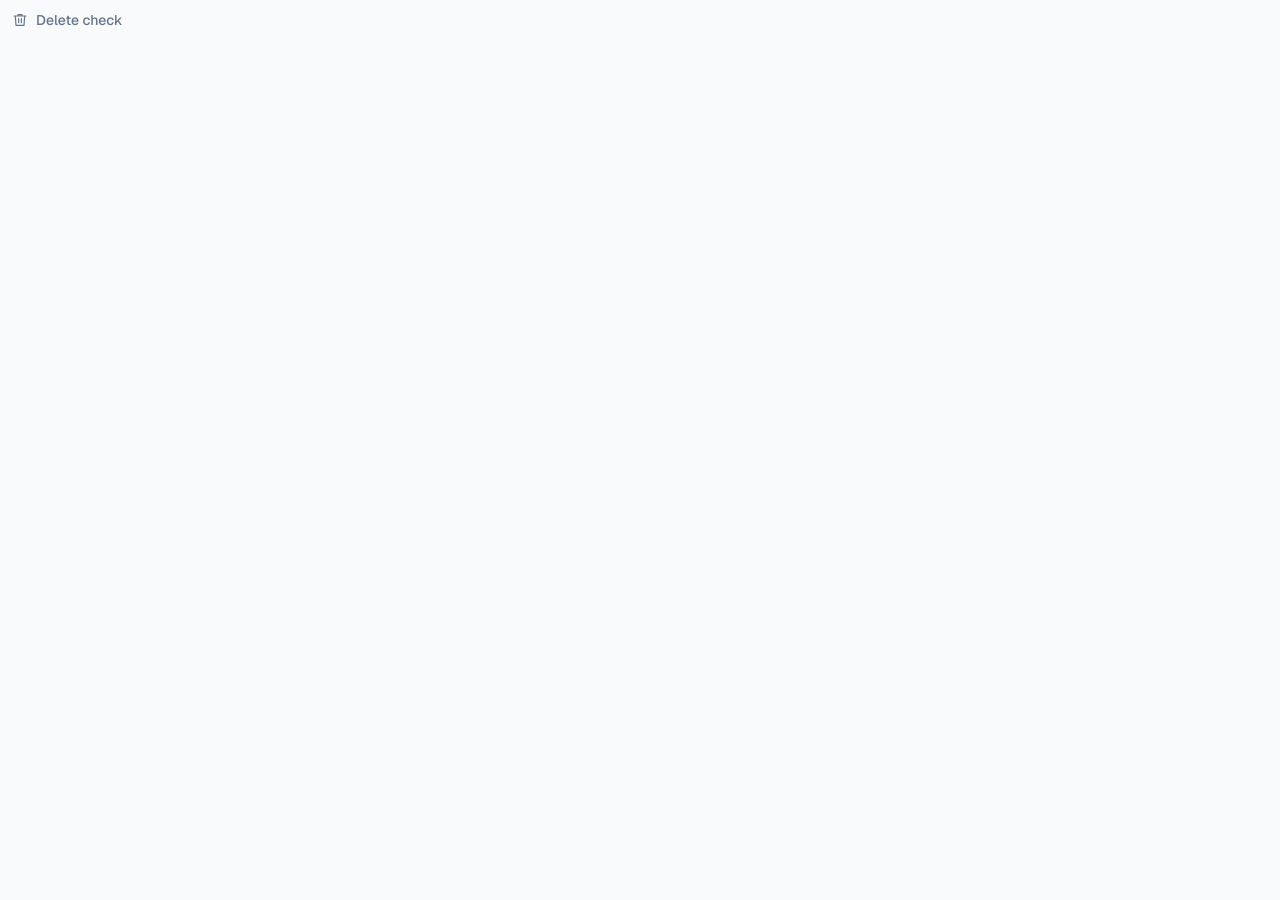
Scenario: does not display a raw transport error
This screenshot has width=1280, height=900.
Click the button "Delete check": (67,20) [0,0,134,40]
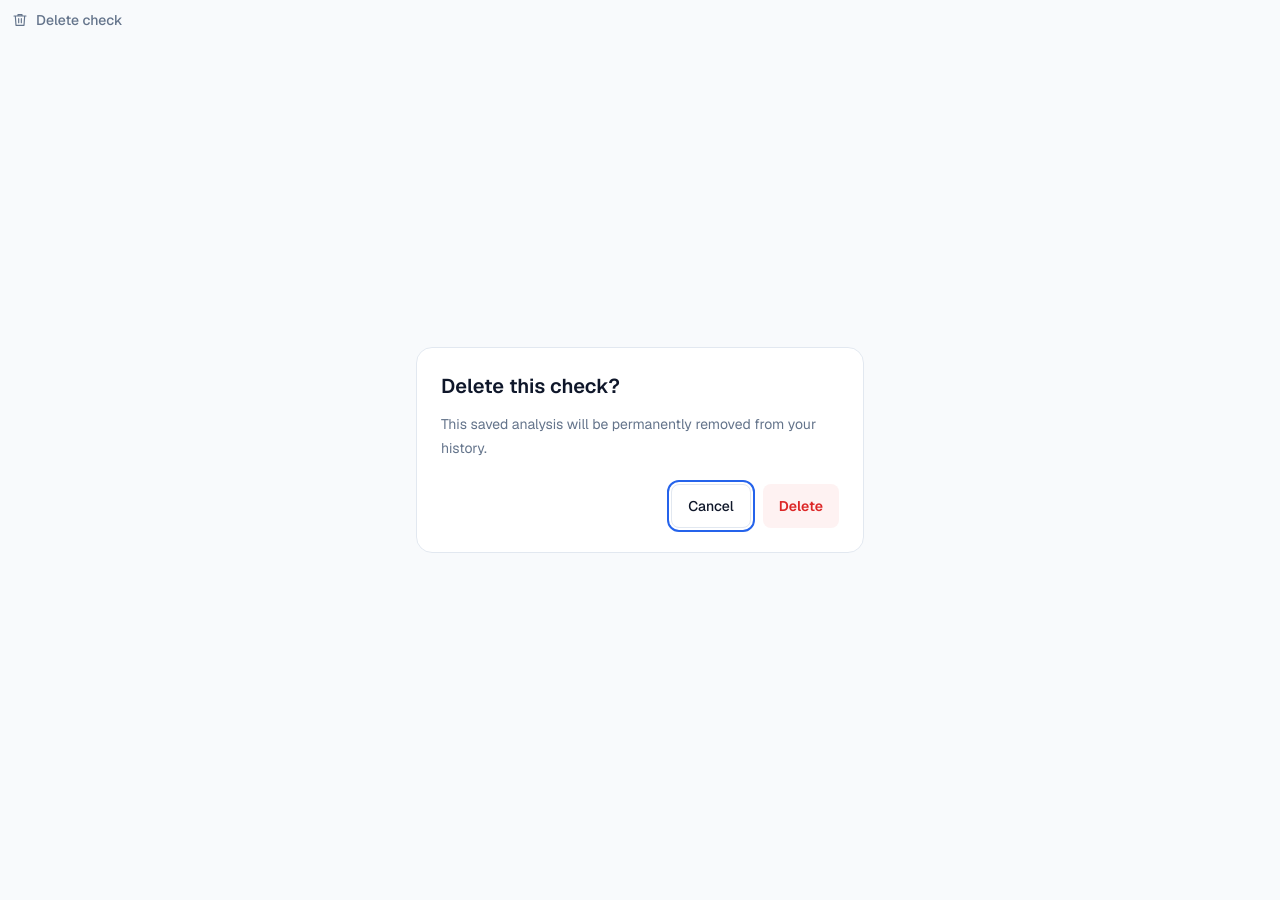
Click the button "Delete": (801,506) [763,484,839,528]
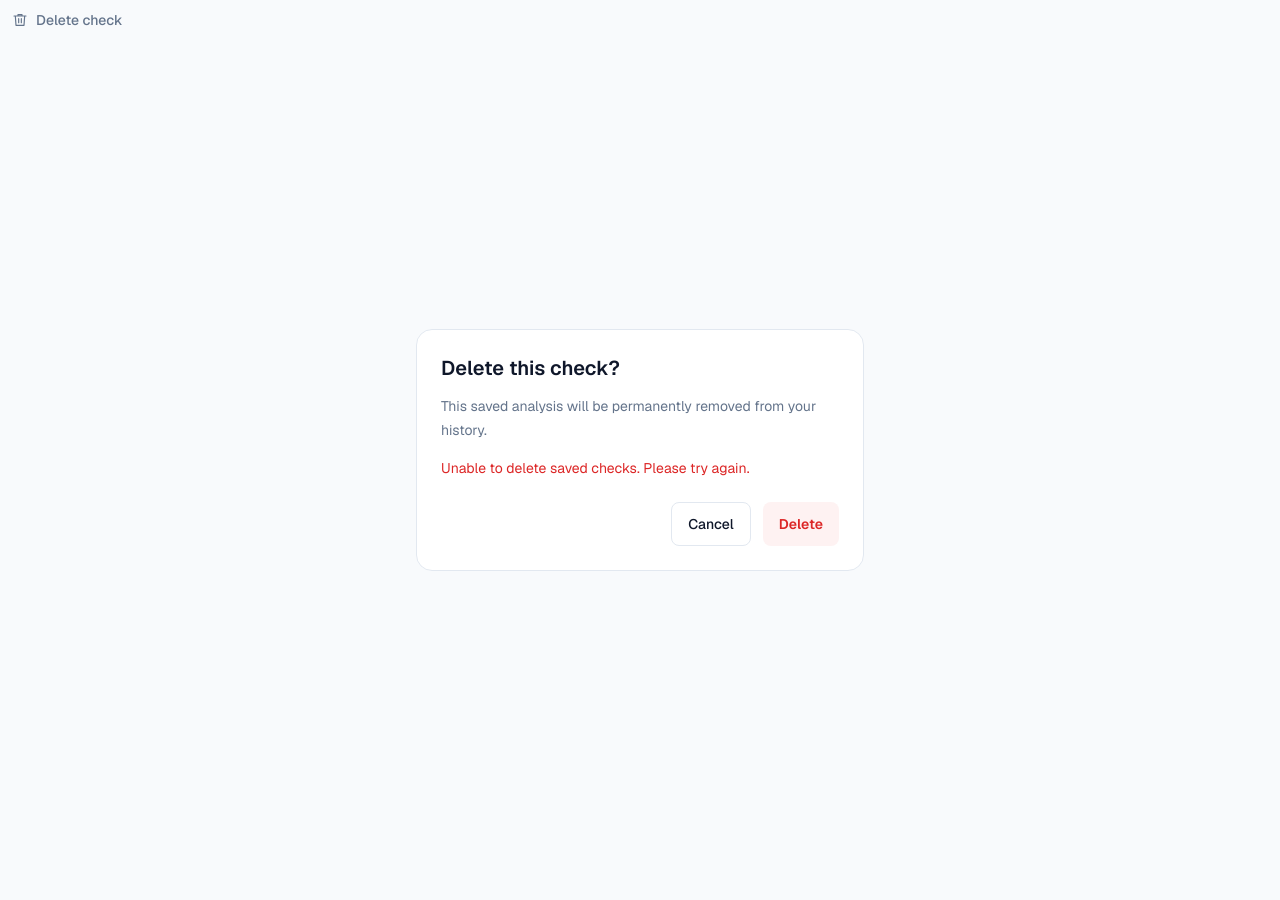
expect the text "Unable to delete saved checks" is shown: met, box [441,459,750,477]
